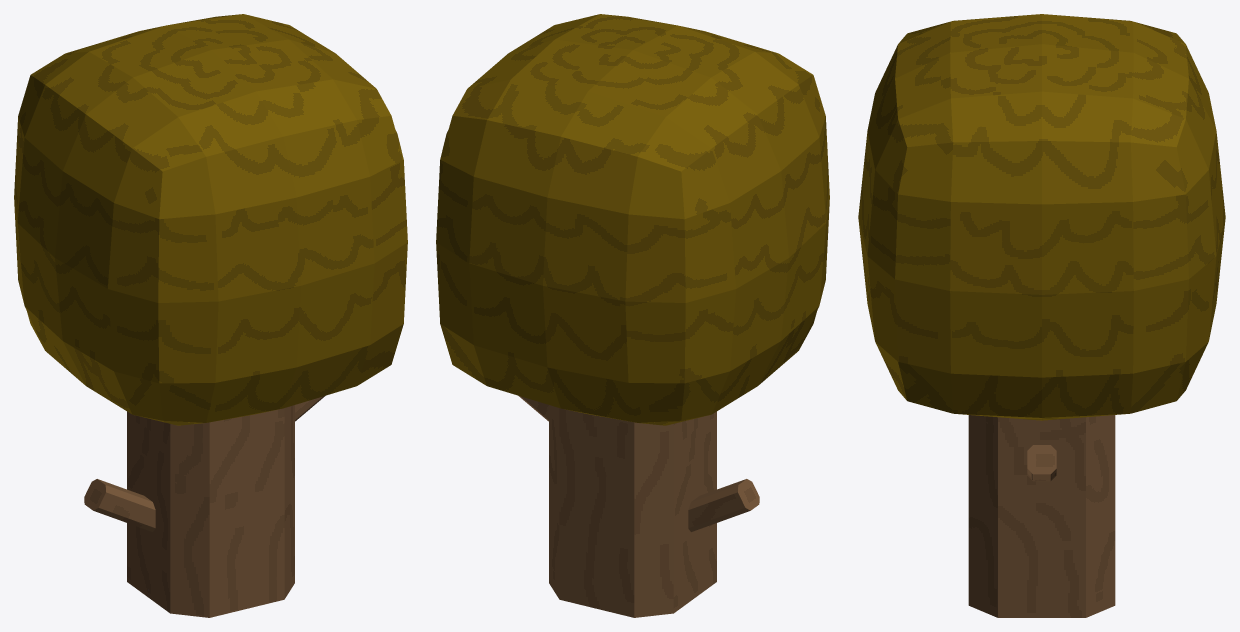
The model's file is tree3dautumn.gltf.
3 renders of one model, left to right at view 1: azimuth 30°, elevation 25°; view 2: azimuth 150°, elevation 25°; view 3: azimuth 270°, elevation 25°, orthographic.
Visible parts, largest first — view 1: beveled_cuboid; view 2: beveled_cuboid; view 3: beveled_cuboid.
Boxes of the visible parts, left/top/right/bottom form: beveled_cuboid: left=14, top=14, right=407, bottom=617; beveled_cuboid: left=436, top=14, right=829, bottom=617; beveled_cuboid: left=858, top=14, right=1225, bottom=617.
Bounding box in the file's own units: 1.56 × 2.55 × 1.56.
2 materials, 2 textured.
